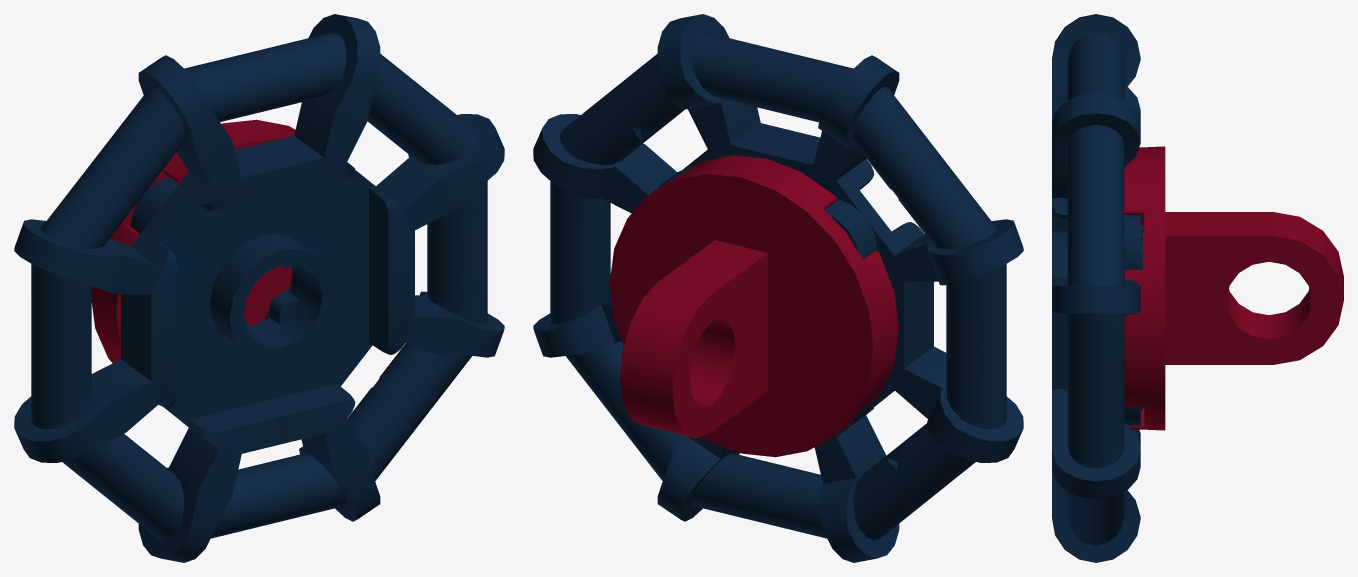
The model's file is Garra.fbx.
The picture shows the model from 3 angles, left to right: view 1: azimuth 30°, elevation 25°; view 2: azimuth 150°, elevation 25°; view 3: azimuth 270°, elevation 25°; orthographic projection. The views are drawn at different scales.
Parts seen in each view (by area): view 1: part, part.001; view 2: part, part.001; view 3: part, part.001.
Part boxes in pixels (<box>): part: <box>14,14,504,562</box>; part.001: <box>91,119,295,362</box>; part: <box>533,14,1023,562</box>; part.001: <box>609,155,898,457</box>; part: <box>1052,14,1142,562</box>; part.001: <box>1124,146,1343,430</box>.
Size of the model in its own units: 2900 by 2900 by 1638.
